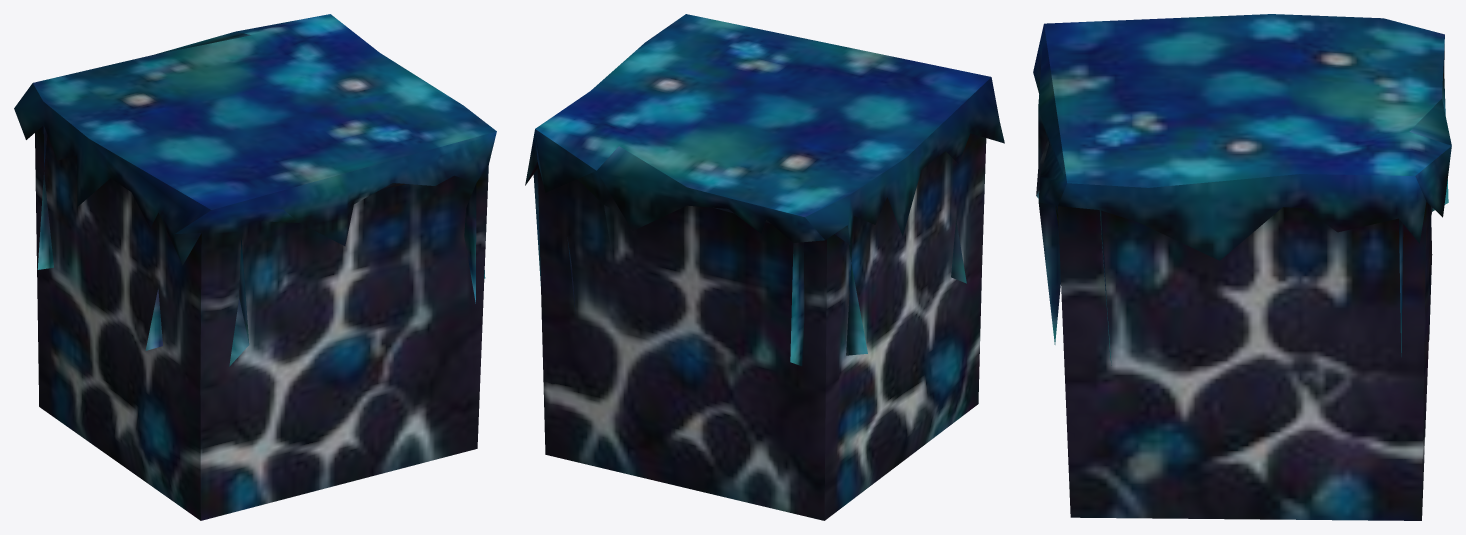
The model's file is b_mycelium_mur_3_lo.glb.
3 views of the same model, side by side, from view 1: azimuth 30°, elevation 25°; view 2: azimuth 150°, elevation 25°; view 3: azimuth 270°, elevation 25° (orthographic). The views are drawn at different scales.
Parts seen in each view (by area): view 1: geometry_0; view 2: geometry_0; view 3: geometry_0.
Part boxes in pixels (x1,y1,x2,y2): geometry_0: (14, 14, 496, 520); geometry_0: (525, 14, 1004, 520); geometry_0: (1033, 14, 1451, 520).
Size of the model in its own units: 1 by 0.9315 by 1.
1 material, 1 textured.
